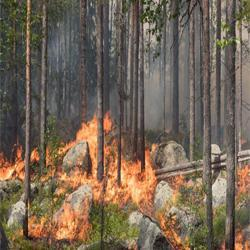fire: (106, 156, 158, 204), (73, 117, 111, 155)
